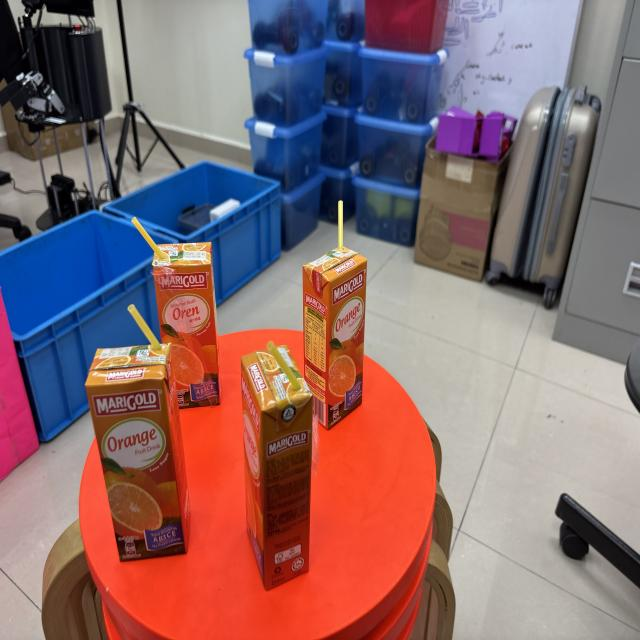drink_carton: (79, 290, 197, 574), (234, 336, 322, 610), (126, 203, 228, 418), (296, 187, 373, 438)
